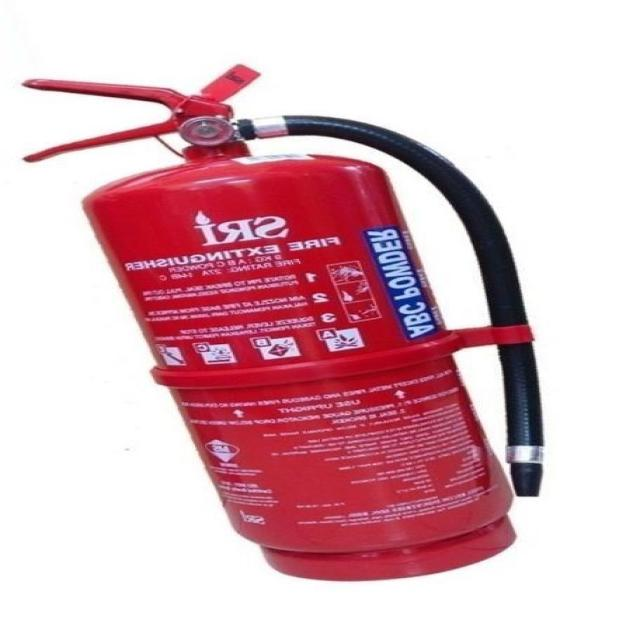fire_extinguisher: (16, 57, 558, 583)
